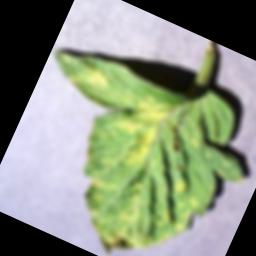Leaf_Mold: (64, 143, 208, 256), (98, 81, 183, 179), (47, 49, 116, 106)
